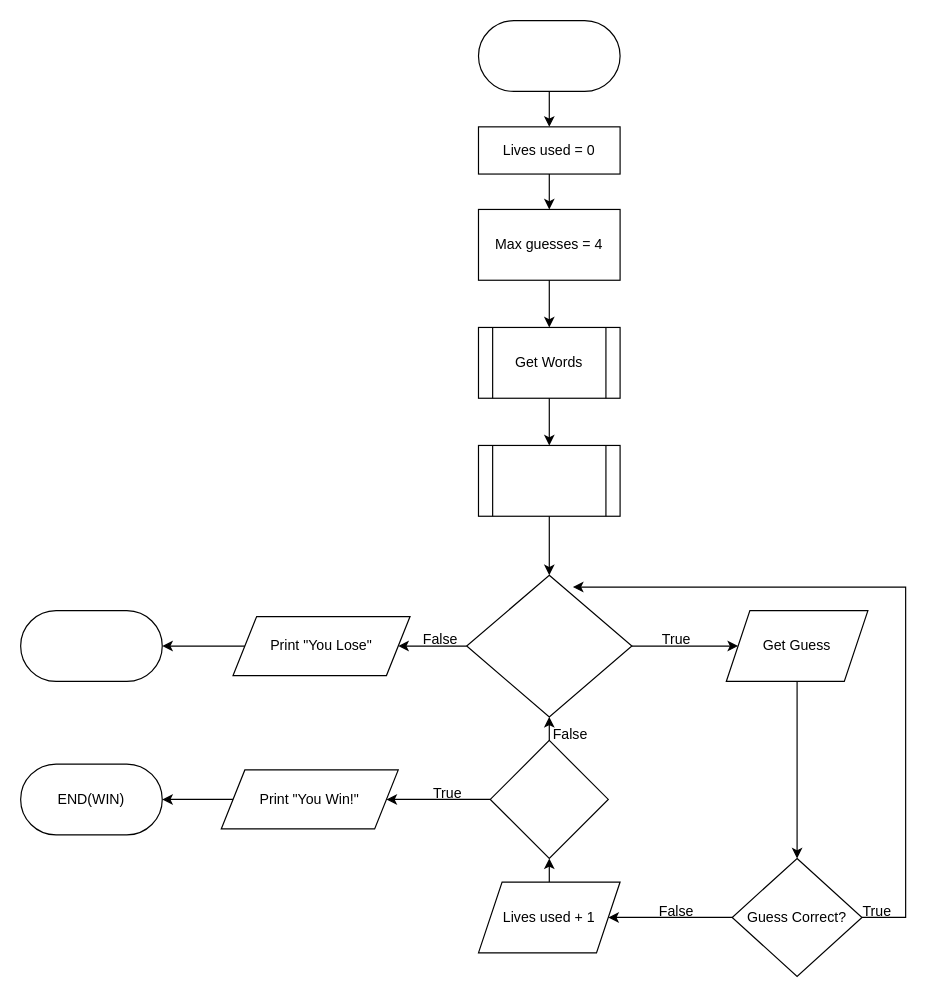
This 936x997 diagram has some shape labels left out. Here are the shapes that lost their labels. From the top down, the centre of each, then its label:
the point at 548,55: CONNECTIONS
the point at 548,480: Generate Grid
the point at 90,645: END (LOSE)
the point at 549,645: While guesses < 4
the point at 548,798: Have all categories been guessed?
